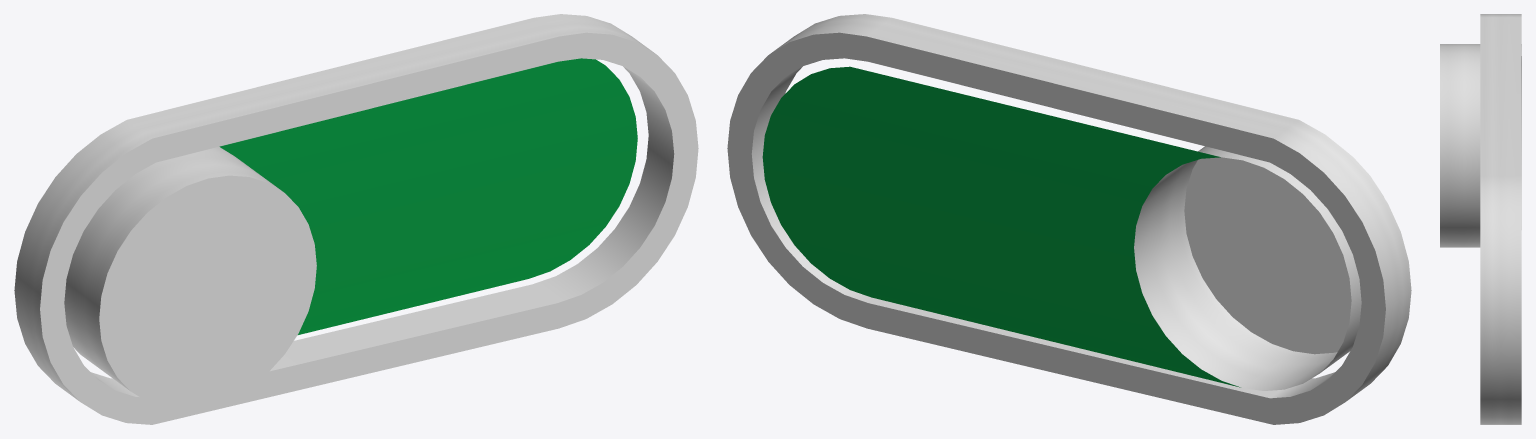
3 views of the same model, side by side, from view 1: azimuth 30°, elevation 25°; view 2: azimuth 150°, elevation 25°; view 3: azimuth 270°, elevation 25° (orthographic). The views are drawn at different scales.
Parts seen in each view (by area): view 1: toggleOn; view 2: toggleOn; view 3: toggleOn.
Boxes of the visible parts, x1,y1,x2,y2 form: toggleOn: (14,14,698,424); toggleOn: (727,14,1411,424); toggleOn: (1440,14,1521,424).
Size of what is drawn, in the model's own units: 0.3981 by 0.1687 by 0.0528.
Materials: 1 (1 with a texture image).
